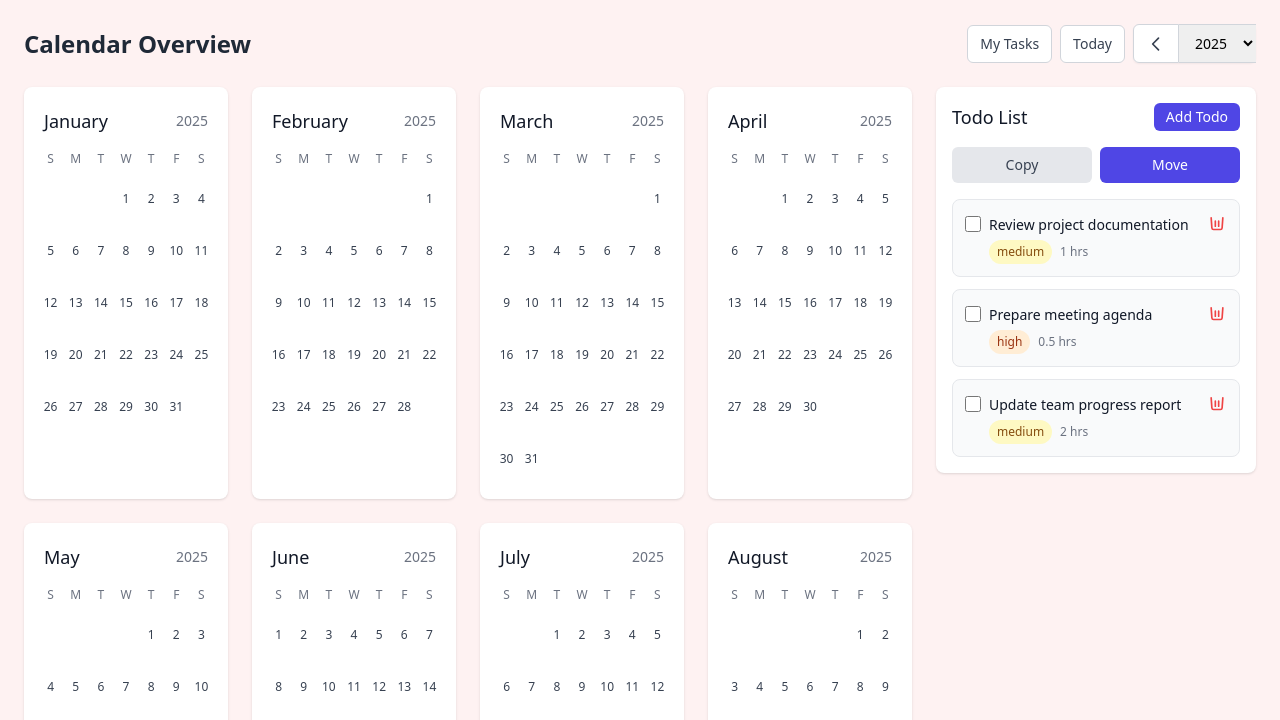
Test: EnhancedCalendar - Rebuilt › adds new todo item
The image size is (1280, 720).
Click the button "Add Todo".
click(1197, 117)  # box [1154, 103, 1240, 131]
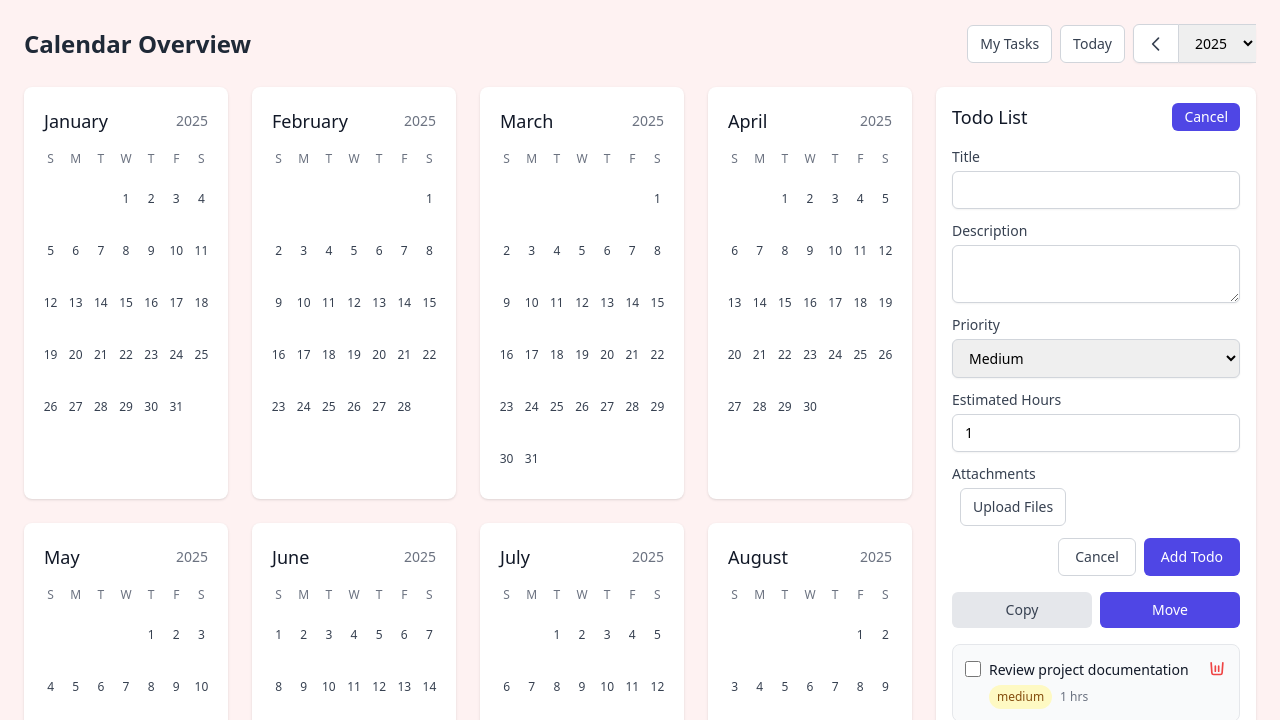
// Fill in form
Type "Test Todo Item" into the field labelled "Title".
click(1096, 190); type("Test Todo Item")  # box [952, 171, 1240, 209]
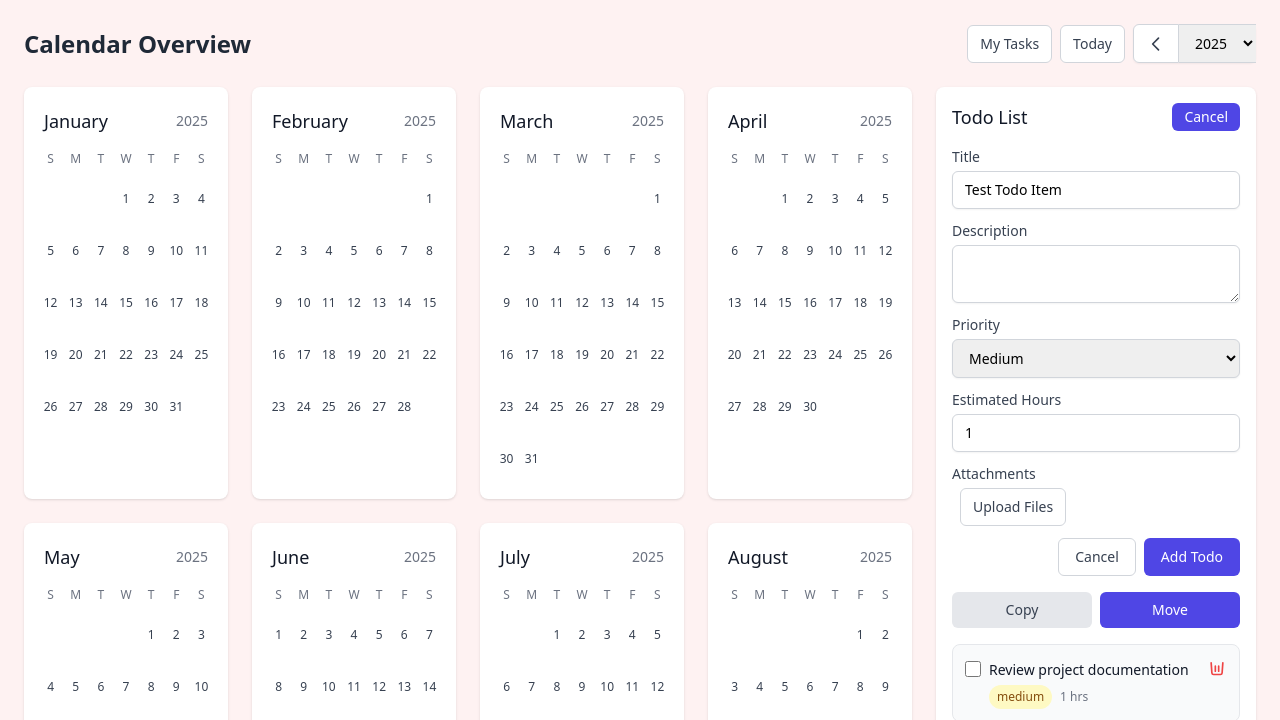
Type "Test description" into the text box labelled "Description".
click(1096, 274); type("Test description")  # box [952, 245, 1240, 303]
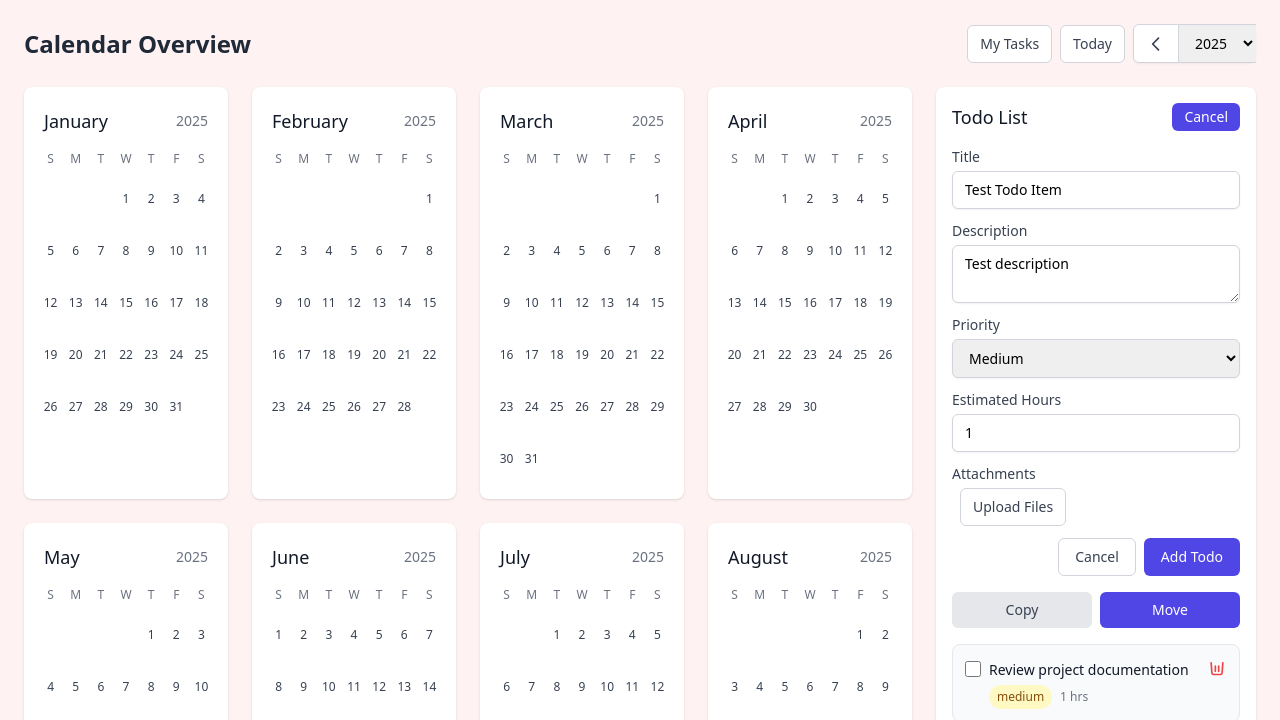
// Submit form
Click the button "Add Todo".
click(1192, 557)  # box [1144, 538, 1240, 576]
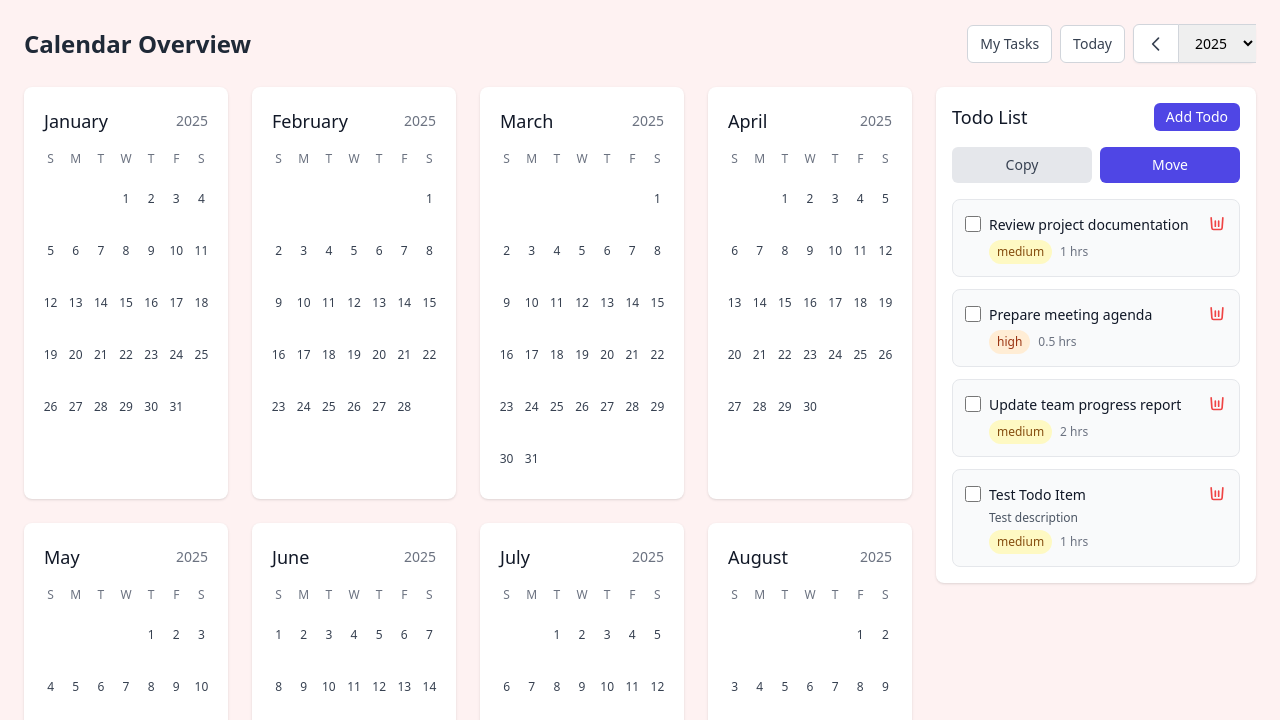
Expected: the label labelled "Title" is gone
